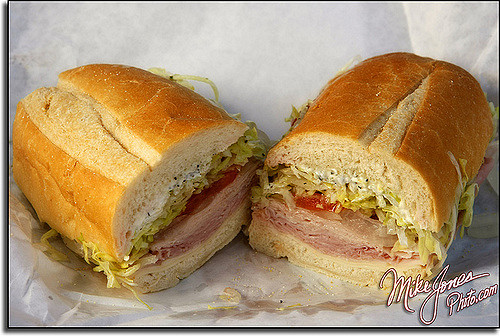slice of bread: (39, 88, 204, 225), (279, 113, 461, 212)
